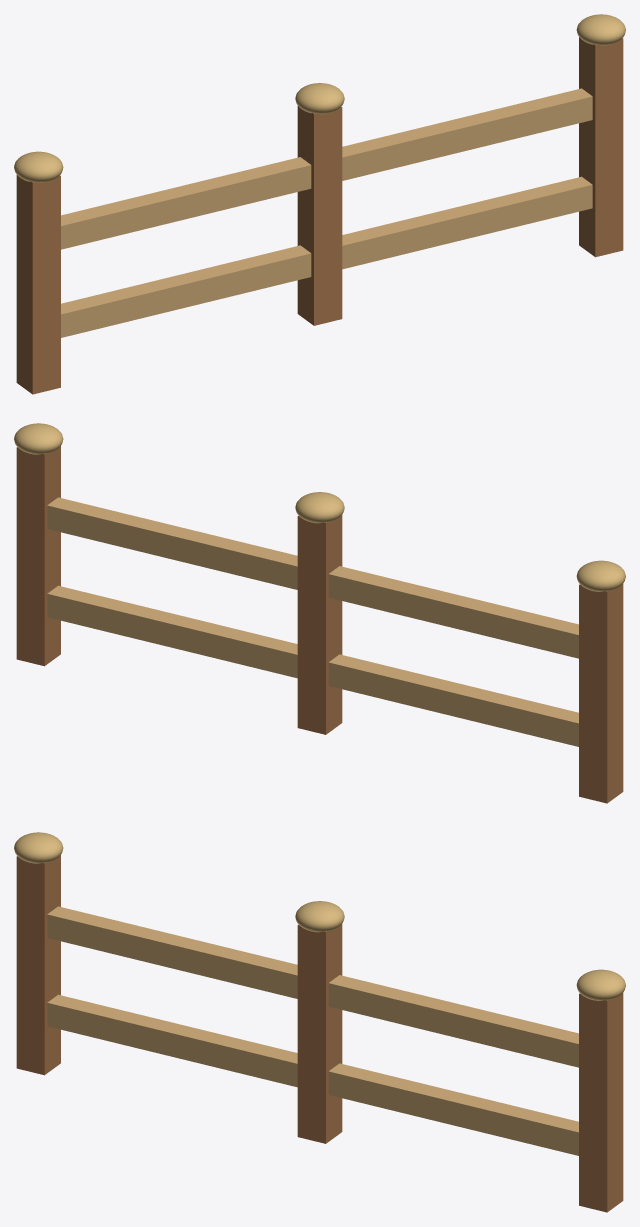
File: fence.glb
3 renders of one model, top to bottom at view 1: azimuth 30°, elevation 25°; view 2: azimuth 150°, elevation 25°; view 3: azimuth 330°, elevation 25°, orthographic.
Size of the model in its own units: 5.38 by 1.95 by 0.38.
